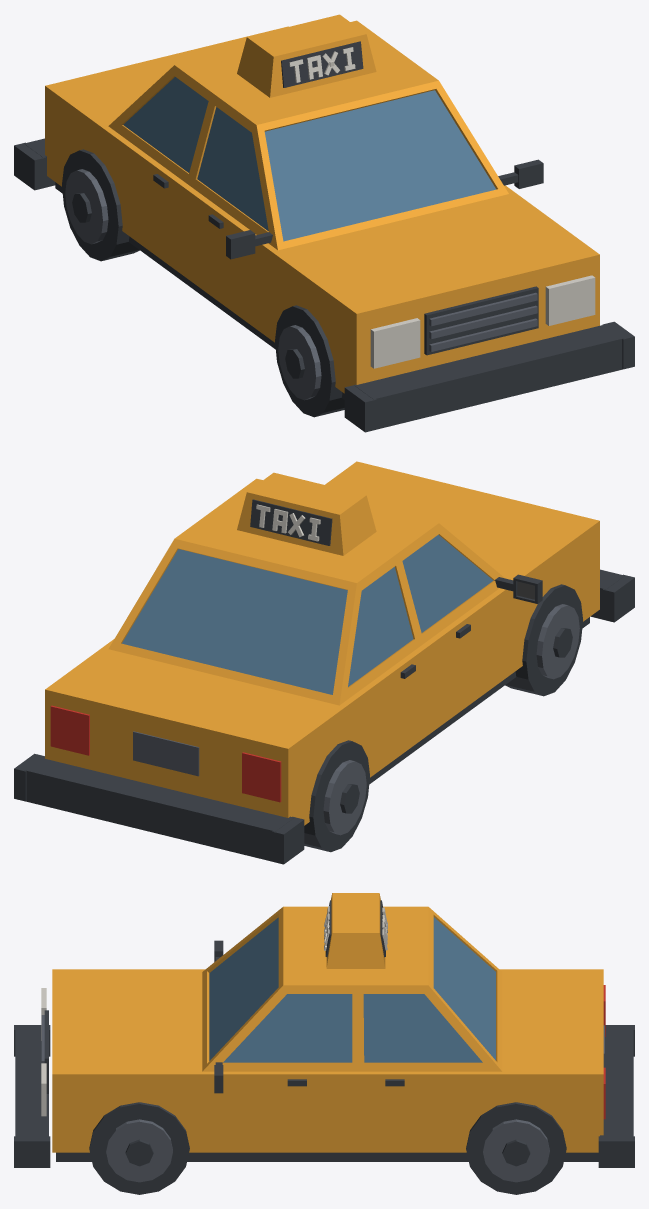
File: brook's main contract taxi.fbx
3 renders of one model, top to bottom at view 1: azimuth 30°, elevation 25°; view 2: azimuth 150°, elevation 25°; view 3: azimuth 270°, elevation 25°, orthographic. The views are drawn at different scales.
Parts seen in each view (by area): view 1: Taxi_Sign_Body, aaaaaa, Wheel_RL_Rim, Wheel_FL_Rim; view 2: Taxi_Sign_Body, aaaaaa, Wheel_FL_Rim, Wheel_RL_Rim; view 3: aaaaaa, Taxi_Sign_Body, Wheel_RR_Rim, Wheel_FR_Hub.
Boxes of the visible parts, box(x1,y1,x2,y2) form: Taxi_Sign_Body: box(14, 14, 634, 432); aaaaaa: box(45, 26, 599, 393); Wheel_RL_Rim: box(62, 149, 139, 261); Wheel_FL_Rim: box(275, 305, 344, 417); Taxi_Sign_Body: box(14, 472, 634, 864); aaaaaa: box(45, 461, 599, 825); Wheel_FL_Rim: box(505, 584, 582, 696); Wheel_RL_Rim: box(304, 740, 369, 852); aaaaaa: box(52, 969, 603, 1152); Taxi_Sign_Body: box(14, 893, 634, 1167); Wheel_RR_Rim: box(466, 1102, 566, 1194); Wheel_FR_Hub: box(89, 1102, 189, 1194).
Size of the model in its own units: 229 by 180 by 445.
